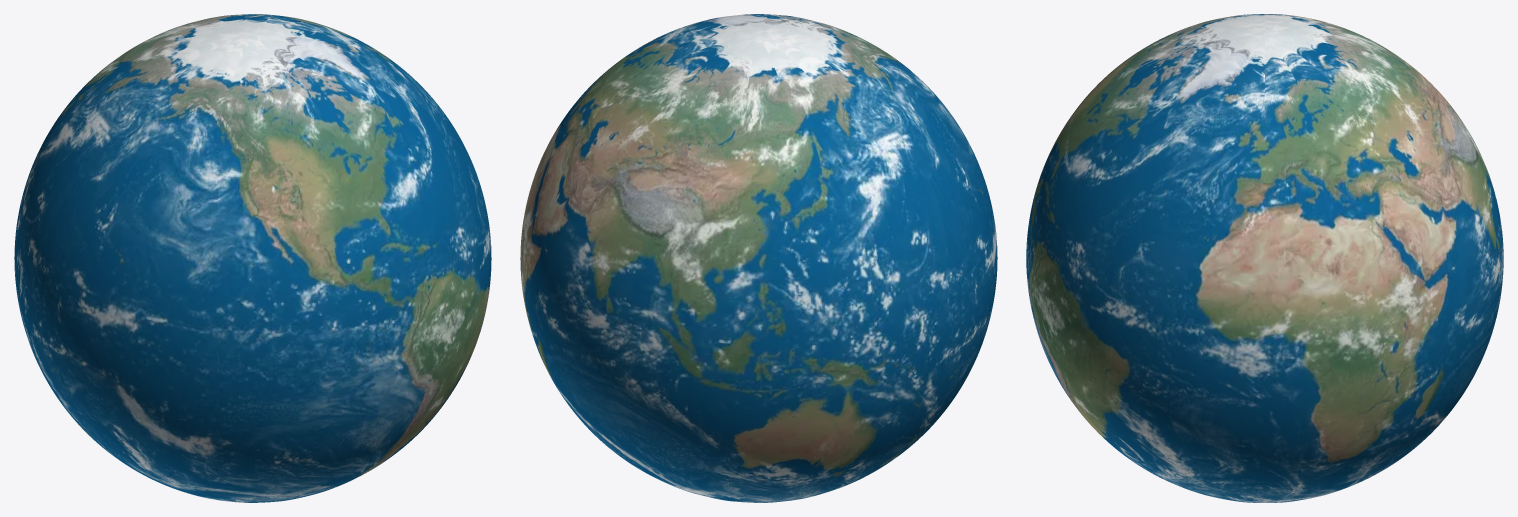
Rendered from earth.glb.
3 views of the same model, side by side, from view 1: azimuth 30°, elevation 25°; view 2: azimuth 150°, elevation 25°; view 3: azimuth 270°, elevation 25° (orthographic).
Visible parts, largest first — view 1: Earth; view 2: Earth; view 3: Earth.
Boxes of the visible parts, x1=… form: Earth: x1=14, y1=14, x2=491, y2=502; Earth: x1=520, y1=14, x2=997, y2=502; Earth: x1=1026, y1=14, x2=1503, y2=502.
Size of the model in its own units: 1.9 by 1.97 by 1.9.
Materials: 1 (1 with a texture image).
